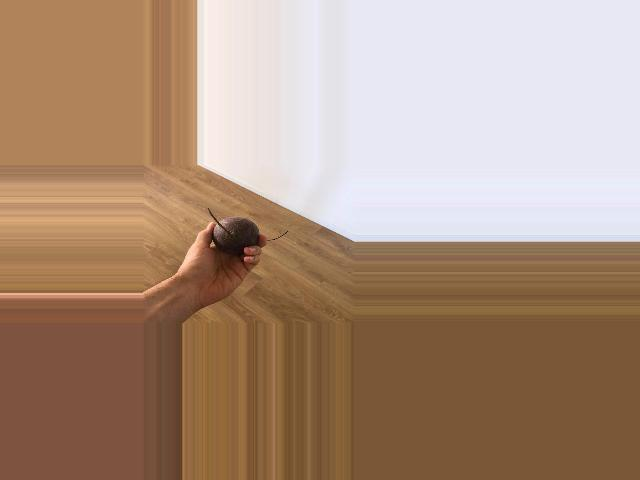beet: (208, 208, 288, 254)
